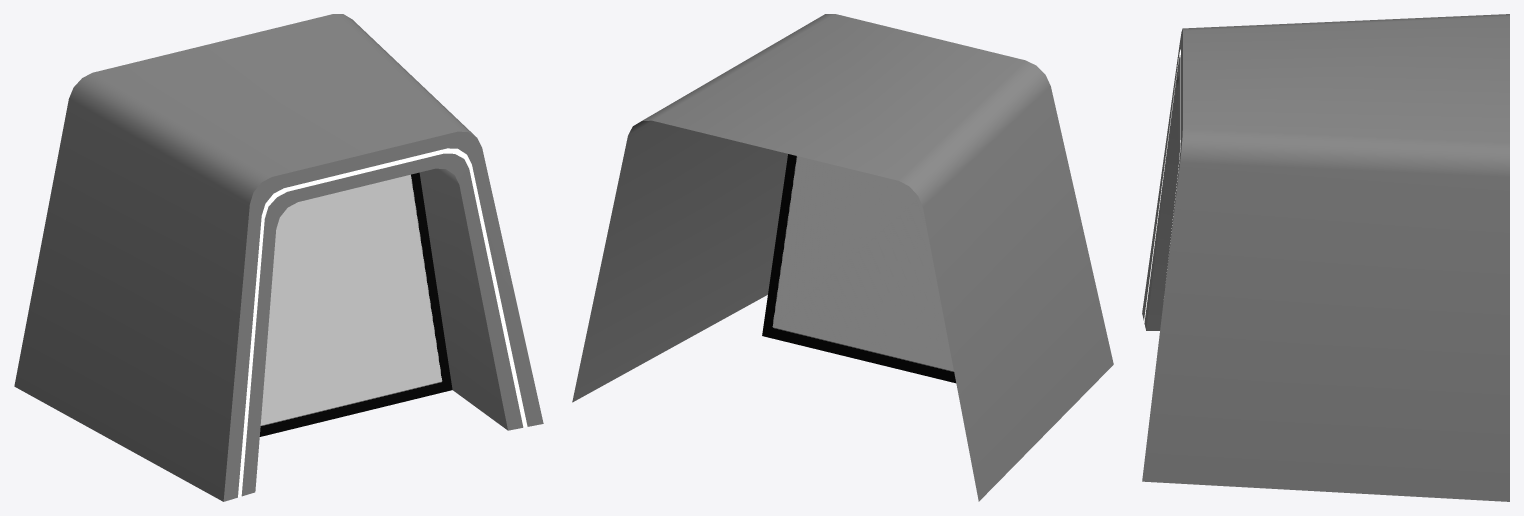
Rendered from Portal_01.fbx.
3 renders of one model, left to right at view 1: azimuth 30°, elevation 25°; view 2: azimuth 150°, elevation 25°; view 3: azimuth 270°, elevation 25°, orthographic. The views are drawn at different scales.
Visible parts, largest first — view 1: Portal; view 2: Portal; view 3: Portal.
Boxes of the visible parts, left/top/right/bottom form: Portal: left=14, top=14, right=543, bottom=501; Portal: left=572, top=14, right=1113, bottom=501; Portal: left=1142, top=14, right=1509, bottom=501.
Bounding box in the file's own units: 367 × 260 × 273.
